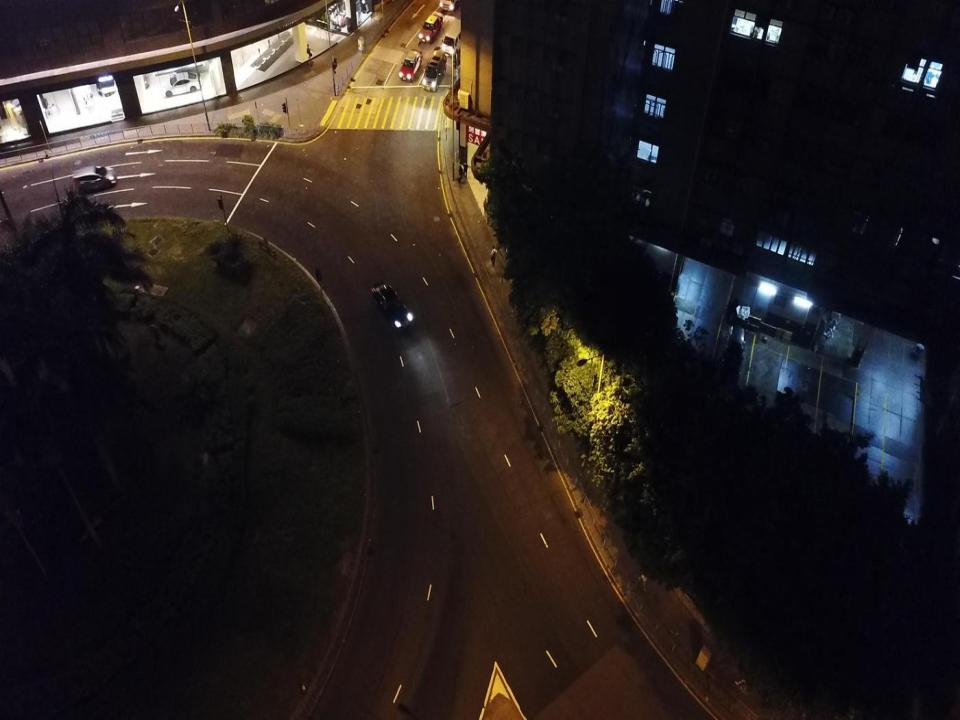car: (372, 280, 415, 332), (72, 166, 116, 195), (722, 325, 745, 379), (92, 45, 116, 96), (161, 71, 201, 98), (419, 11, 444, 42), (399, 48, 420, 80)
van: (441, 18, 470, 57), (422, 50, 447, 92)
